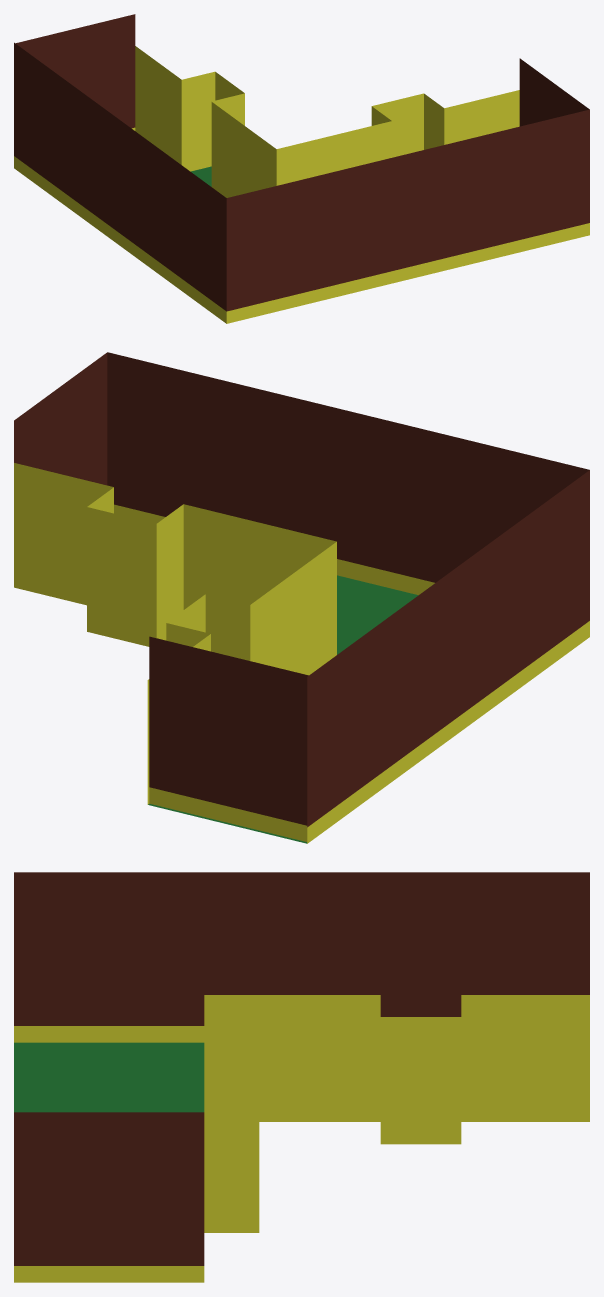
The model's file is room3.dae.
3 views of the same model, one above another, from view 1: azimuth 30°, elevation 25°; view 2: azimuth 150°, elevation 25°; view 3: azimuth 270°, elevation 25° (orthographic). The views are drawn at different scales.
Parts seen in each view (by area): view 1: Cube.001, Cube.003; view 2: Cube.001, Cube.003; view 3: Cube.001, Cube.003.
Part boxes in pixels (bbox=[...]): Cube.001: bbox=[14, 14, 589, 323]; Cube.003: bbox=[135, 46, 519, 197]; Cube.001: bbox=[14, 352, 589, 843]; Cube.003: bbox=[14, 463, 336, 804]; Cube.001: bbox=[14, 872, 589, 1282]; Cube.003: bbox=[204, 995, 589, 1232].
Size of the model in its own units: 6.04 by 6.13 by 2.
